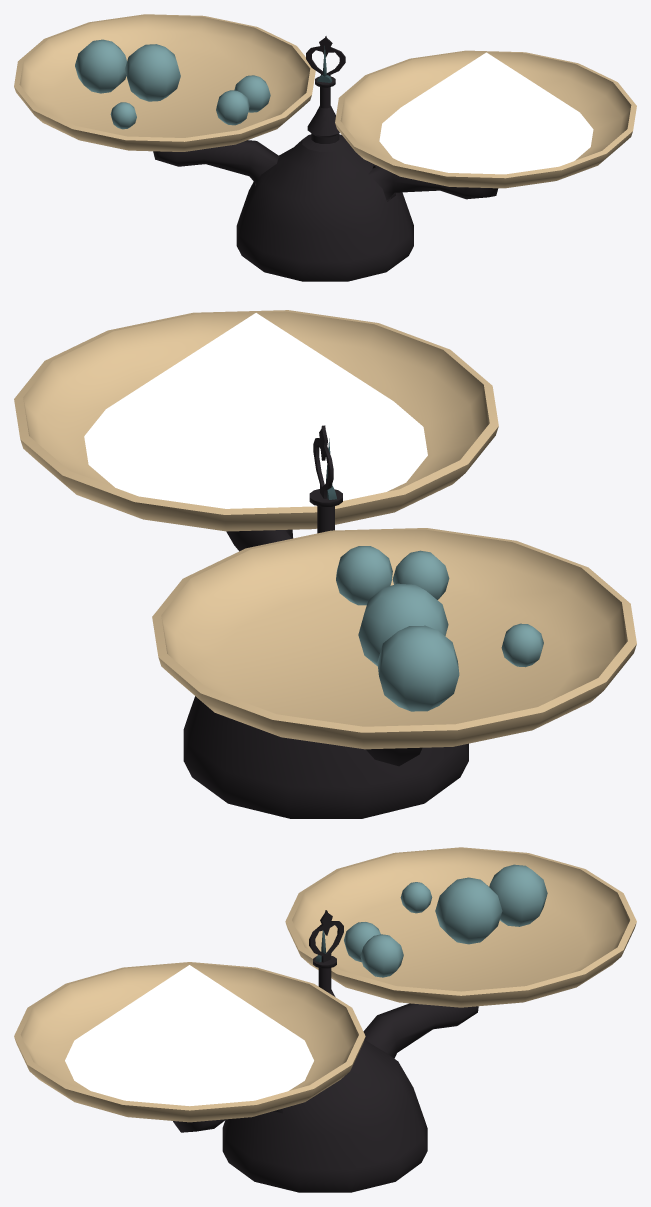
The model's file is SE_101_weighing_scales.glb.
The picture shows the model from 3 angles, top to bottom: view 1: azimuth 30°, elevation 25°; view 2: azimuth 150°, elevation 25°; view 3: azimuth 270°, elevation 25°; orthographic projection. The views are drawn at different scales.
Visible parts, largest first — view 1: plates, body_bottom, content_right, sphere_1, sphere_2, sphere_5, sphere_4, body_top, sphere_3; view 2: plates, content_right, body_bottom, sphere_2, sphere_1, sphere_4, sphere_5, sphere_3, body_top; view 3: plates, body_bottom, content_right, sphere_1, sphere_2, sphere_4, sphere_5, sphere_3, body_top.
Part boxes in pixels (x1,y1,x2,y2): plates: (14, 14, 636, 188); body_bottom: (153, 76, 498, 281); content_right: (379, 52, 593, 174); sphere_1: (124, 44, 180, 101); sphere_2: (75, 39, 126, 93); sphere_5: (216, 90, 249, 125); sphere_4: (234, 75, 270, 112); body_top: (306, 36, 345, 76); sphere_3: (110, 102, 136, 129); plates: (14, 310, 636, 749); content_right: (84, 313, 427, 508); body_bottom: (183, 489, 468, 818); sphere_2: (377, 625, 459, 711); sphere_1: (358, 583, 448, 666); sphere_4: (336, 546, 392, 605); sphere_5: (392, 550, 449, 599); sphere_3: (501, 623, 543, 667); body_top: (313, 425, 333, 498); plates: (14, 847, 636, 1122); body_bottom: (173, 956, 478, 1192); content_right: (65, 965, 313, 1106); sphere_1: (435, 877, 502, 944); sphere_2: (489, 864, 547, 926); sphere_4: (360, 934, 403, 977); sphere_5: (344, 922, 380, 962); sphere_3: (400, 882, 432, 913); body_top: (309, 910, 343, 962).
Bounding box in the file's own units: 0.8649 × 0.375 × 0.8649.
Materials: 5 (1 with a texture image).
